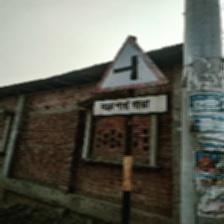Side-road-left: (93, 32, 171, 119)
